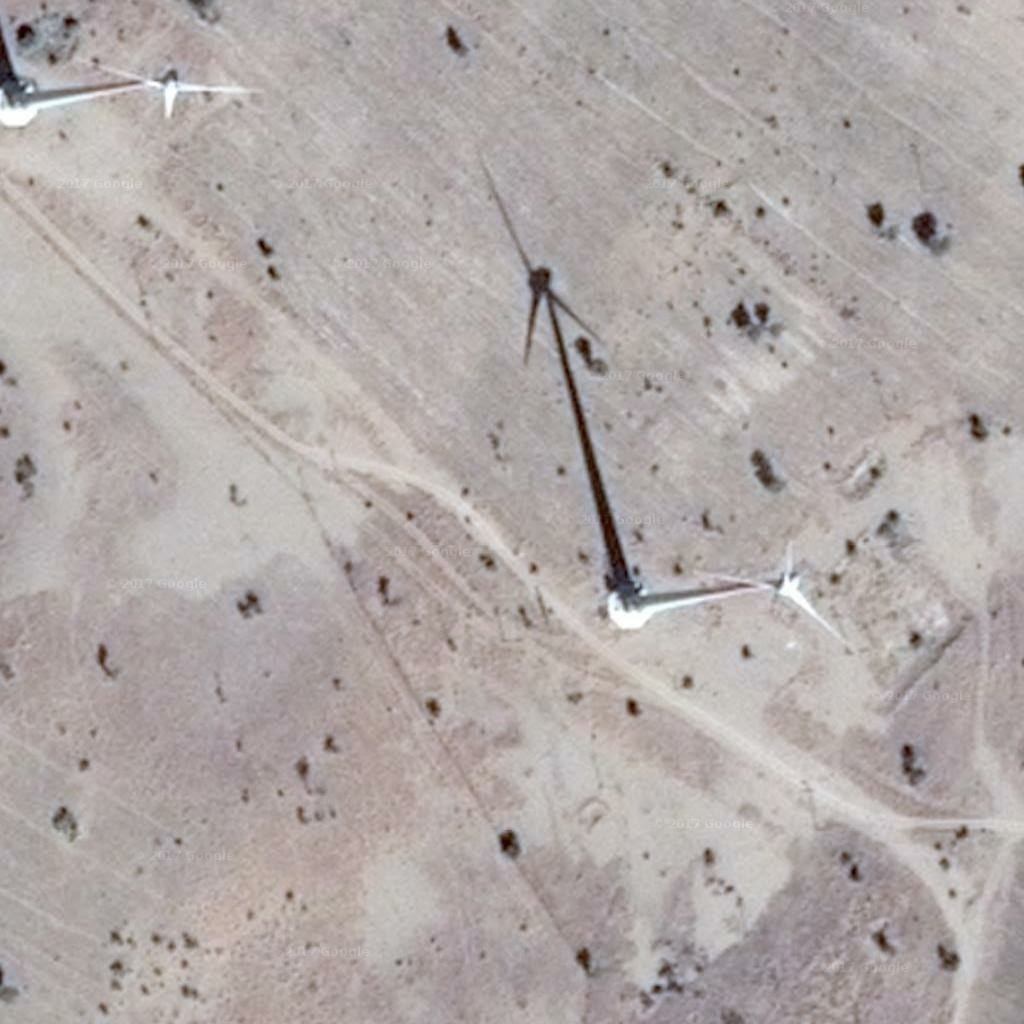Windmill: (482, 163, 656, 591)
